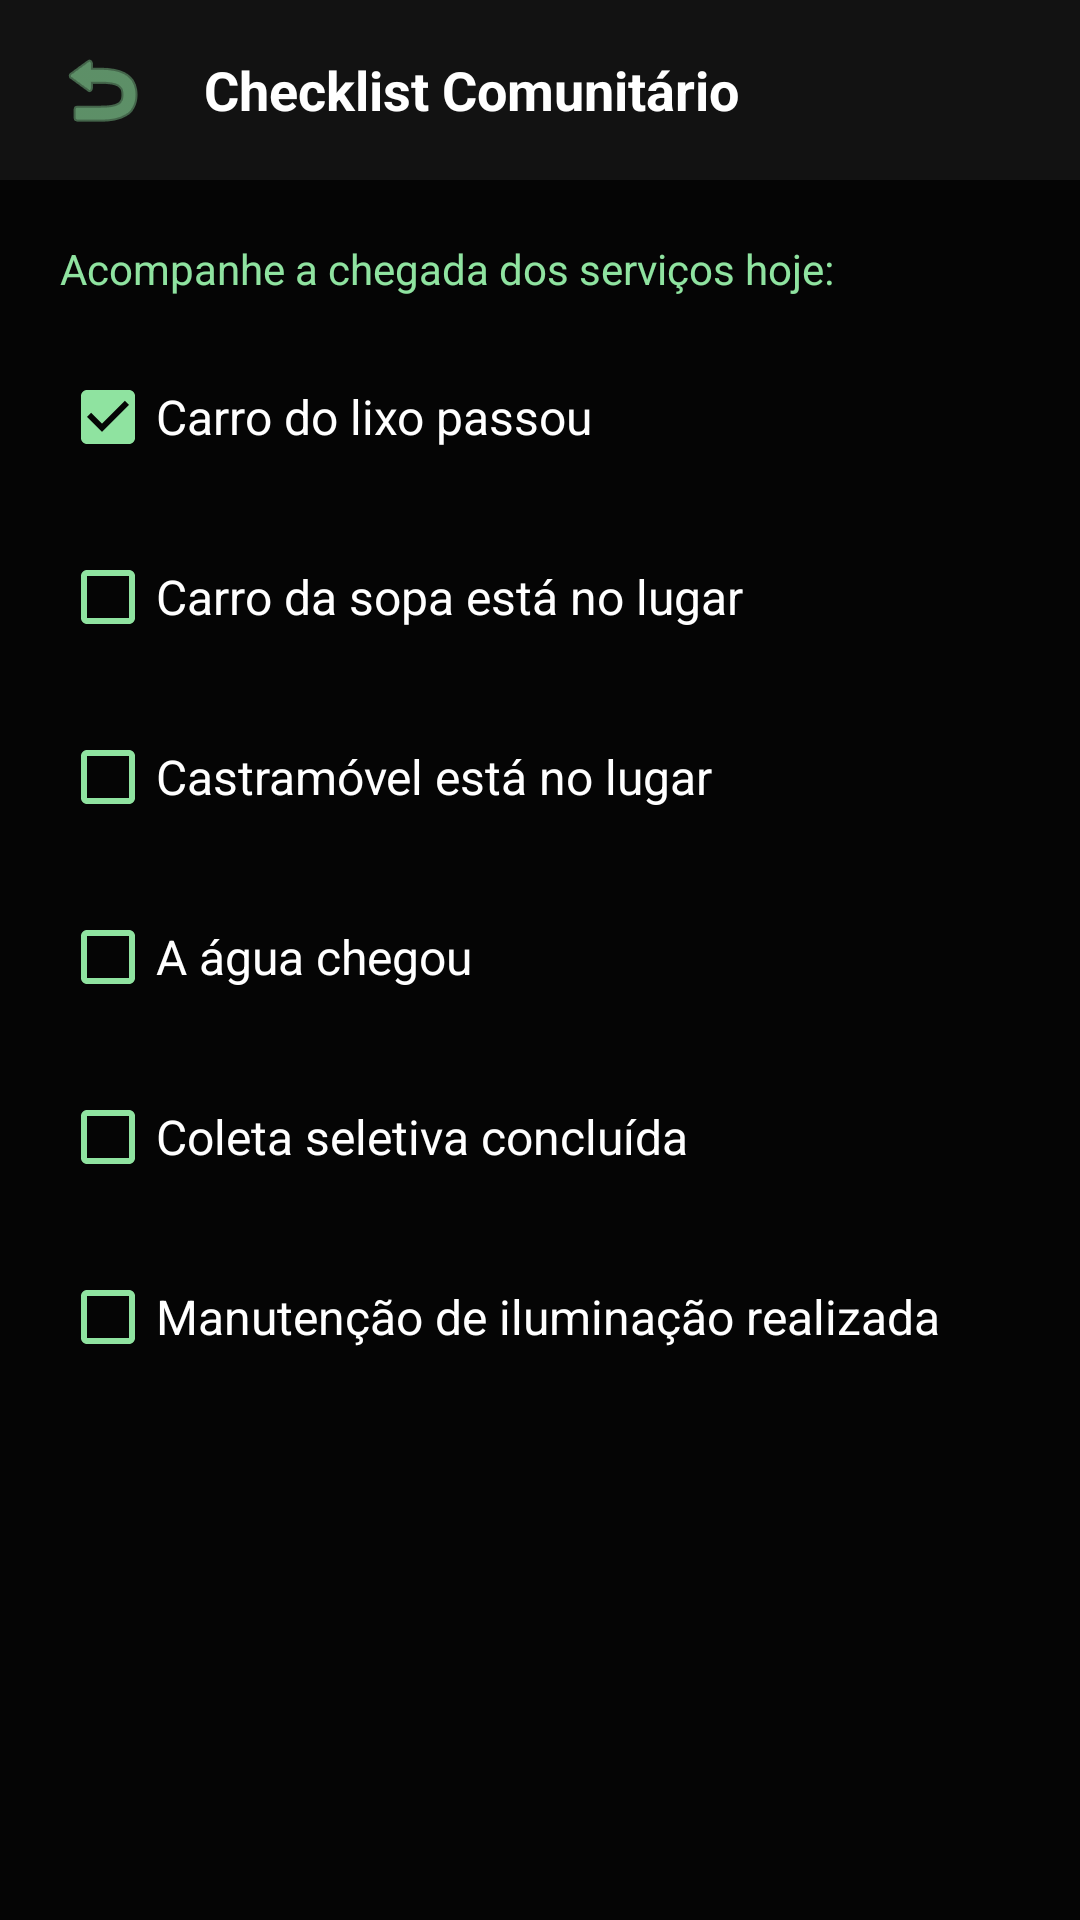

Locate icon controls on the screen. Image size 1080*1920, boxes as [x1,y1,x2,y2].
Voltar: [69,59,138,122]
